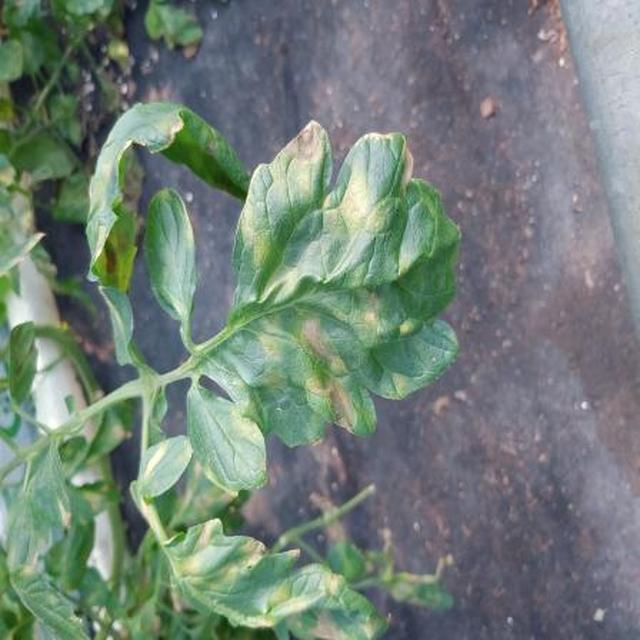Leaf Mold: (345, 184, 479, 640)
